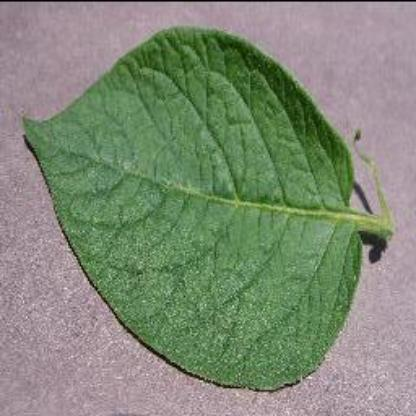Healthy-plant: (20, 23, 392, 393)
